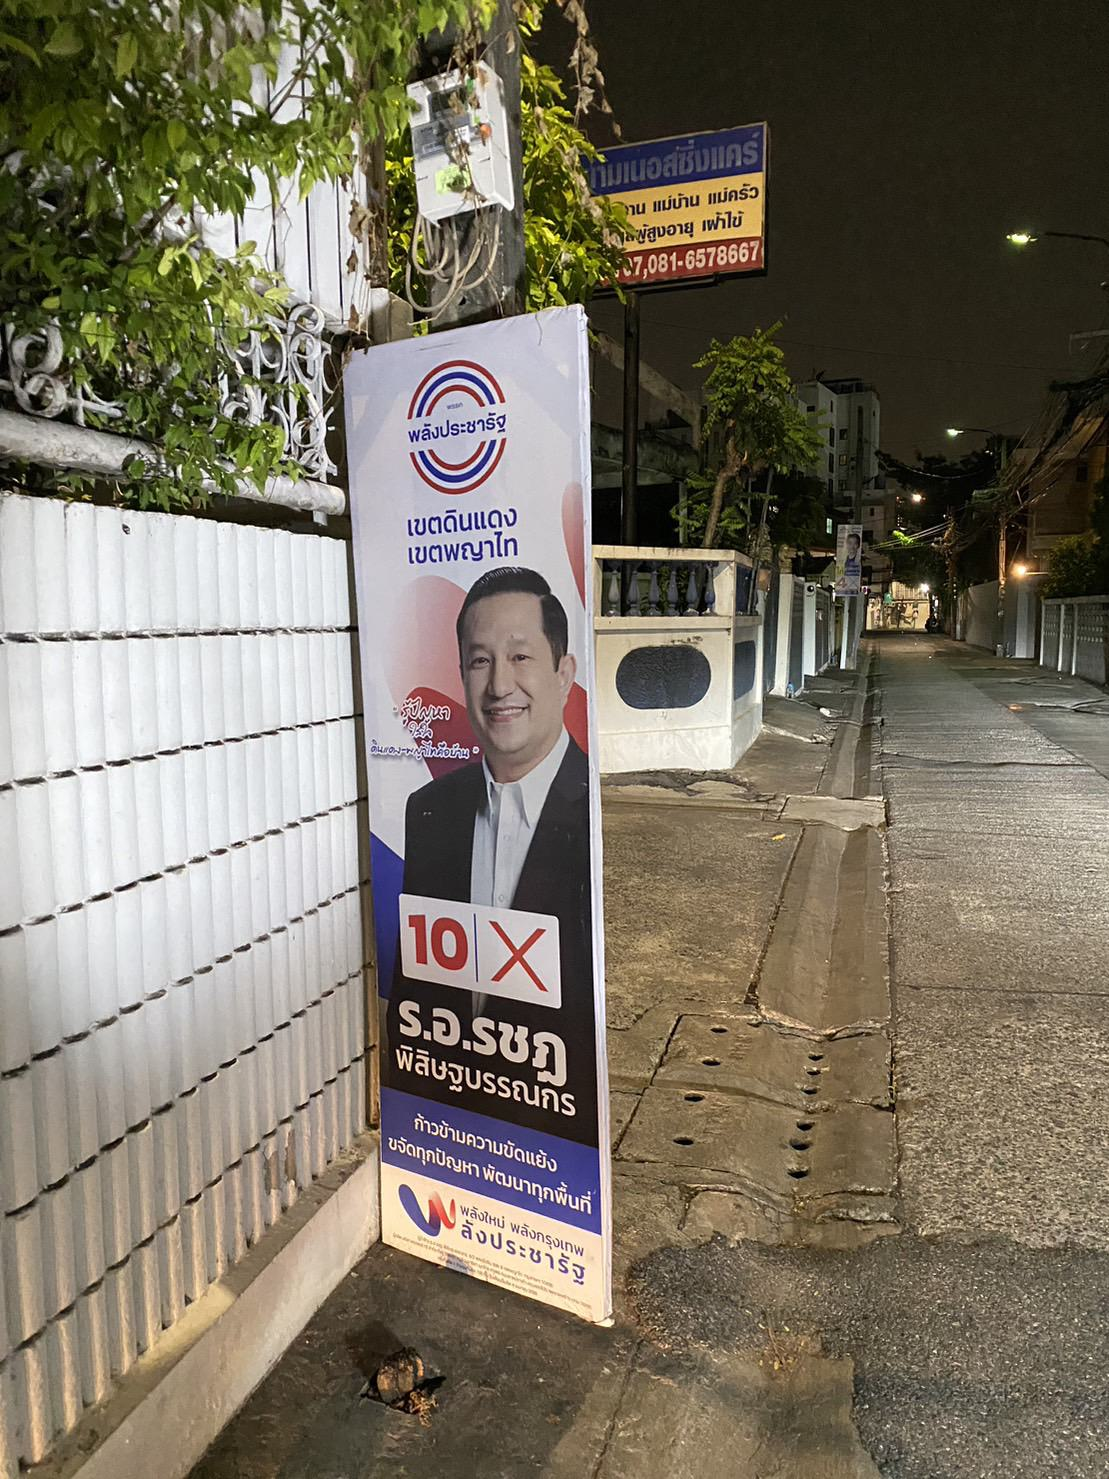Banner: (339, 302, 610, 1342)
